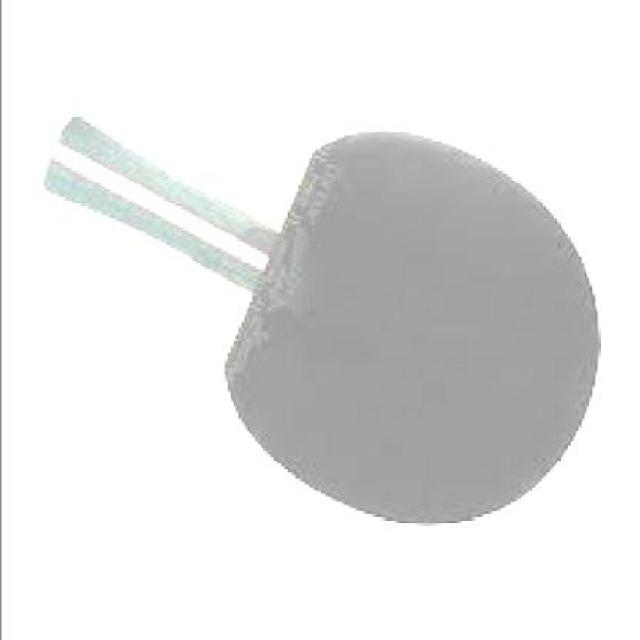table_tennis_racket: (216, 127, 598, 534)
